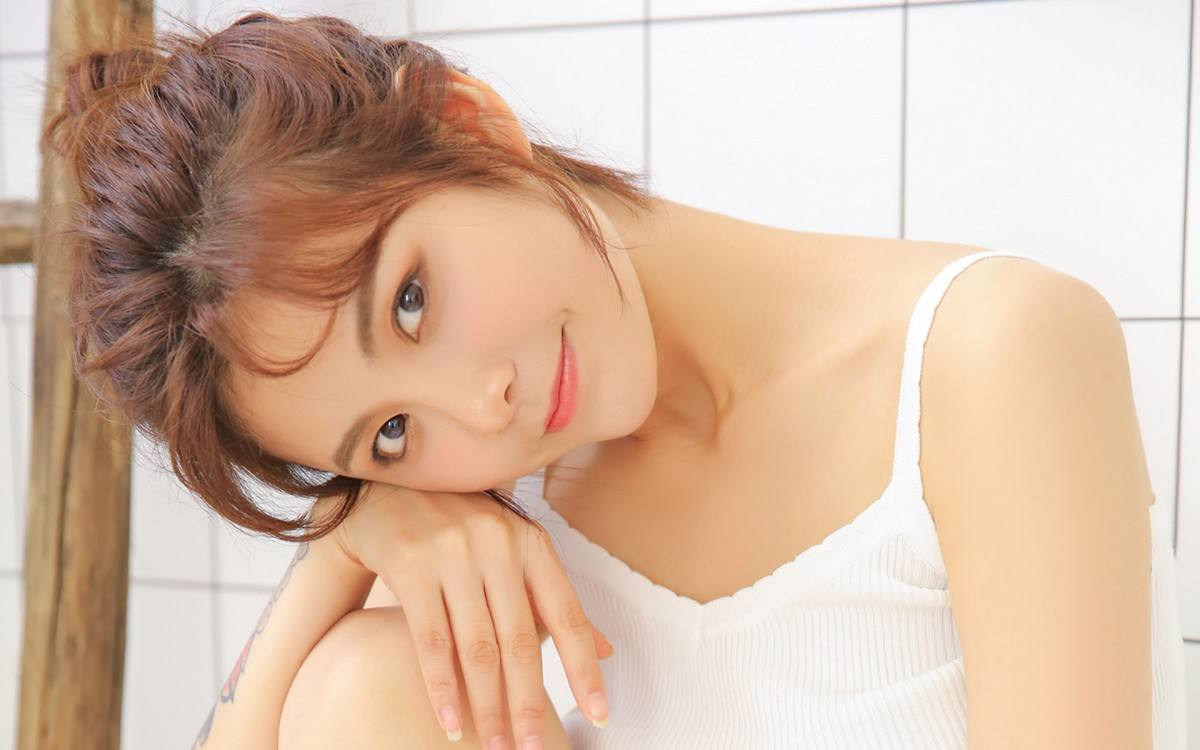person: (69, 43, 980, 740)
